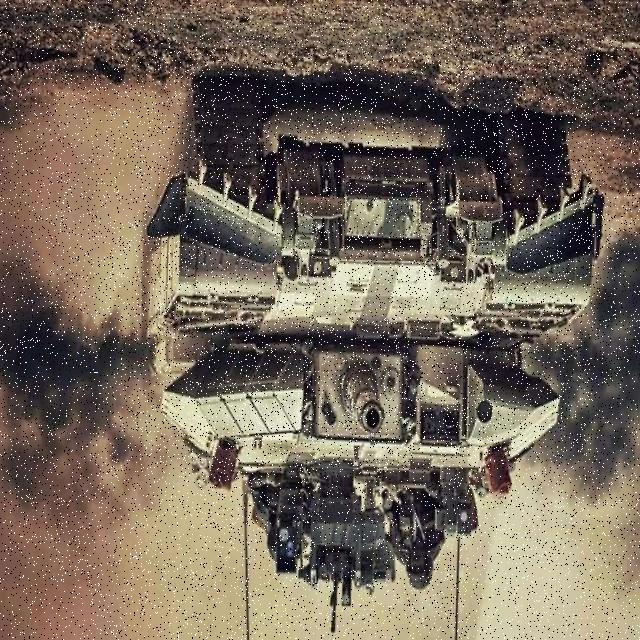MIL_MBT: (135, 36, 601, 466)
